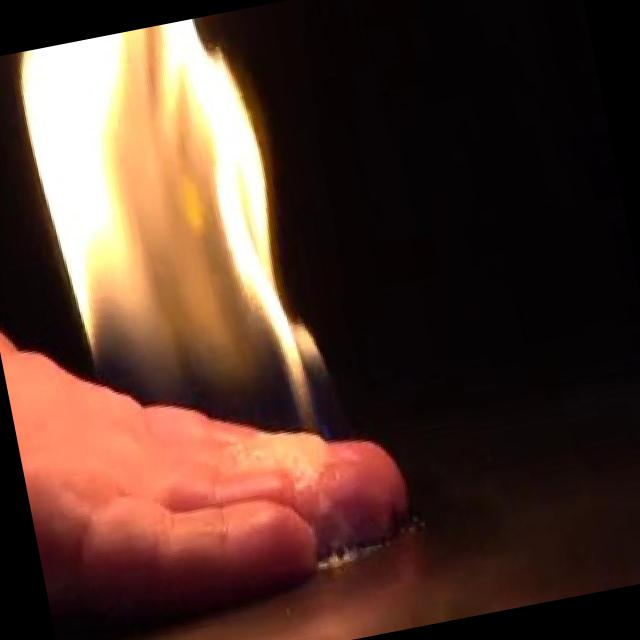Fire: (4, 6, 348, 514)
